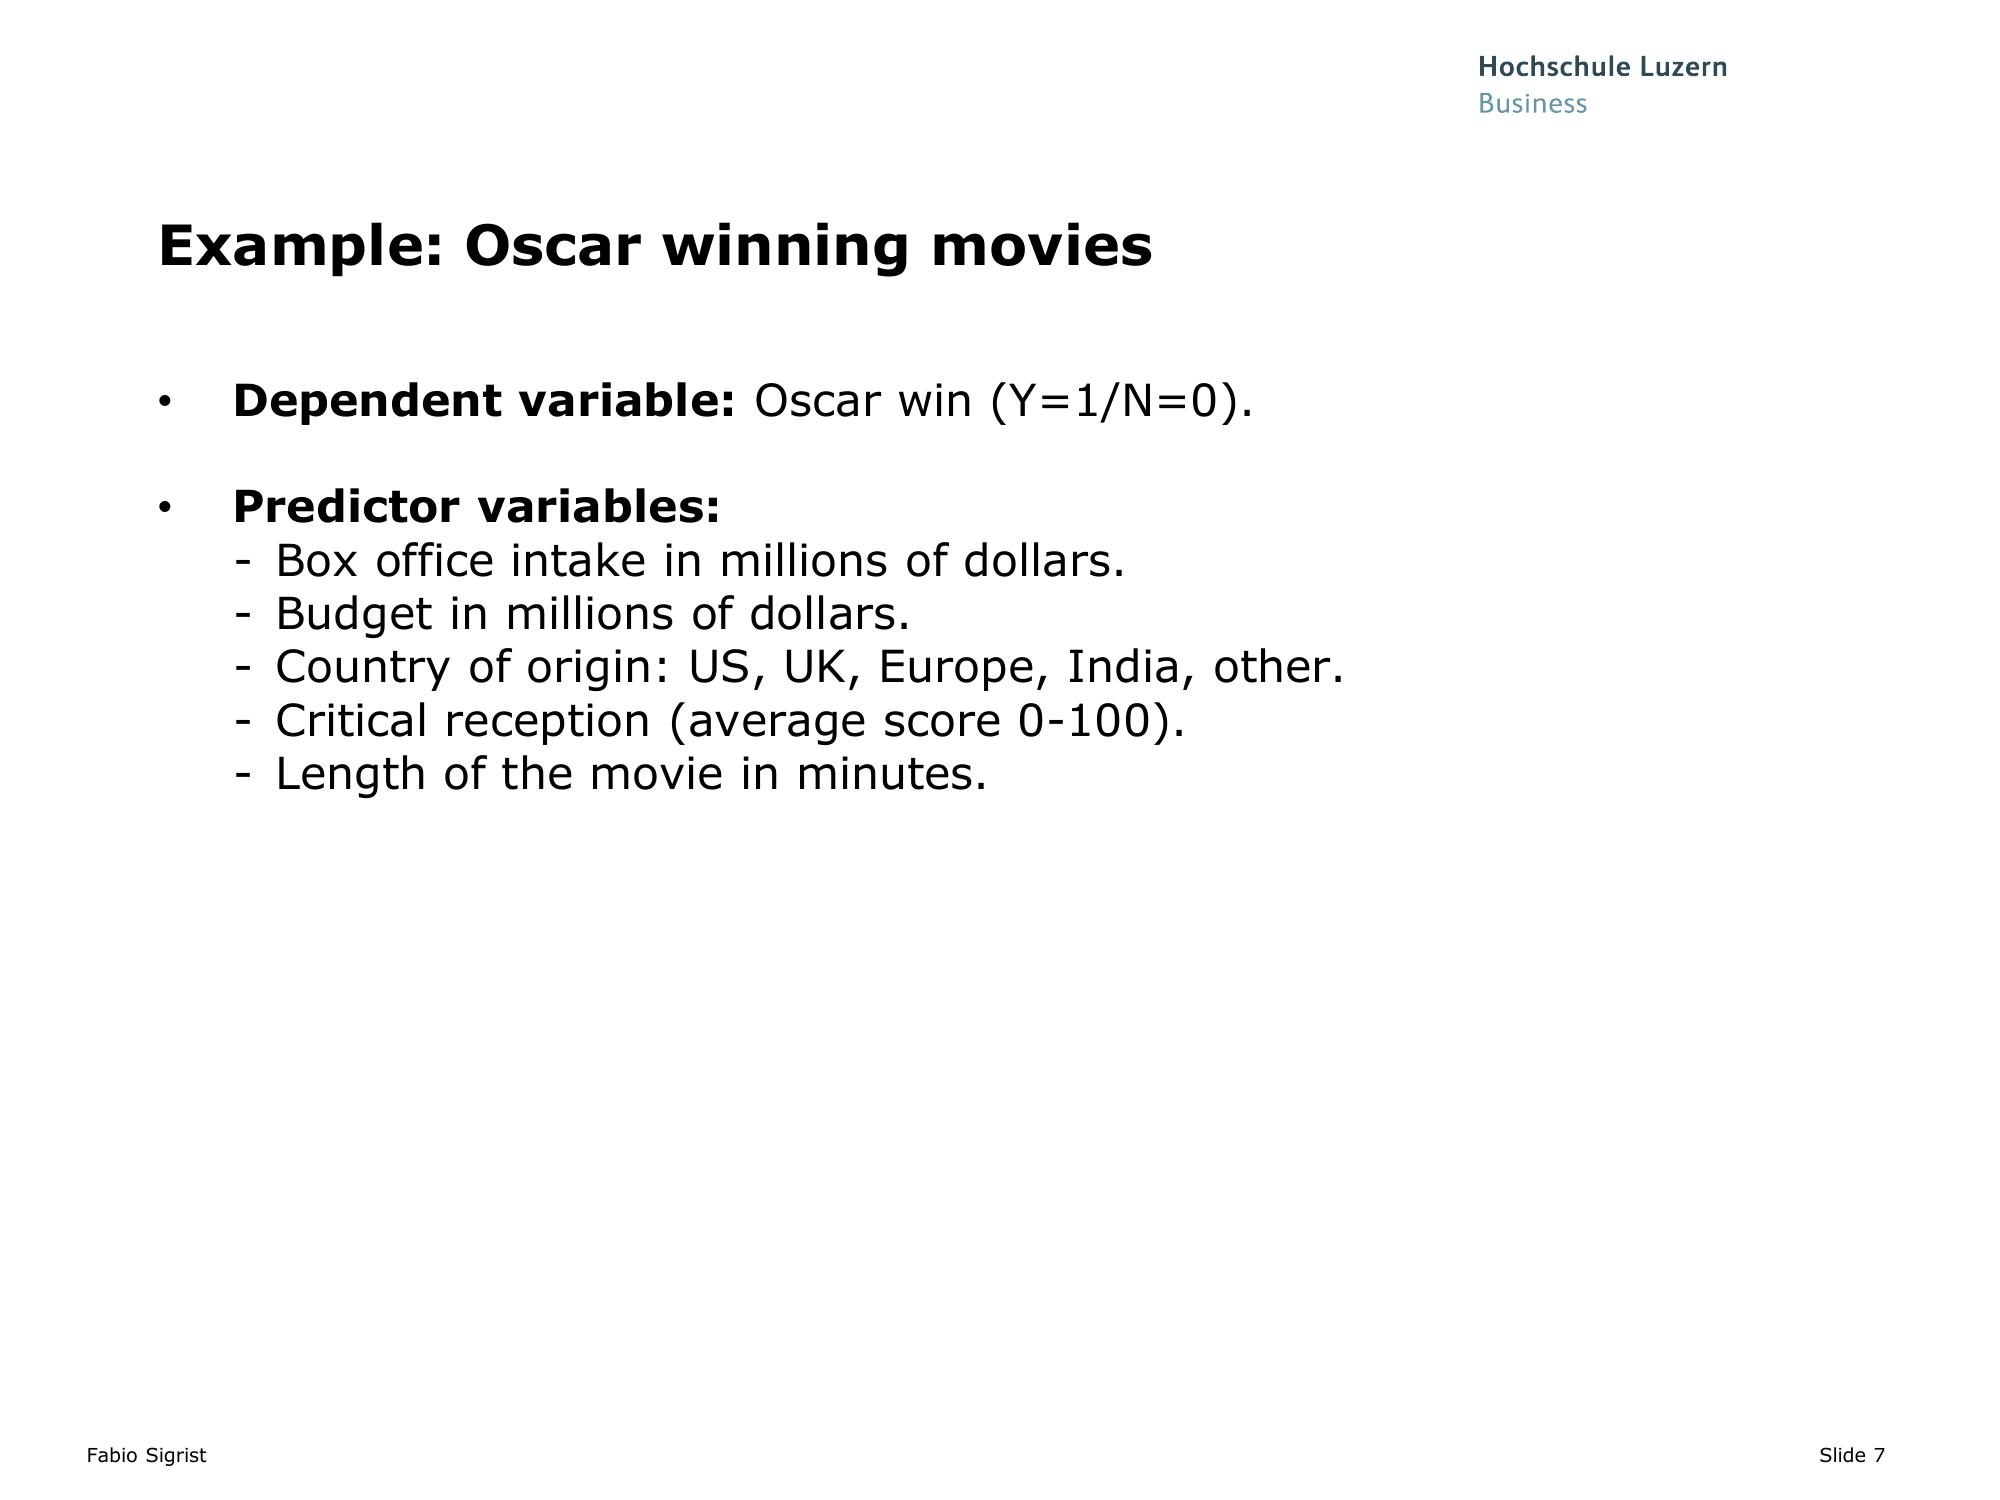Title: (120, 202, 1170, 295)
